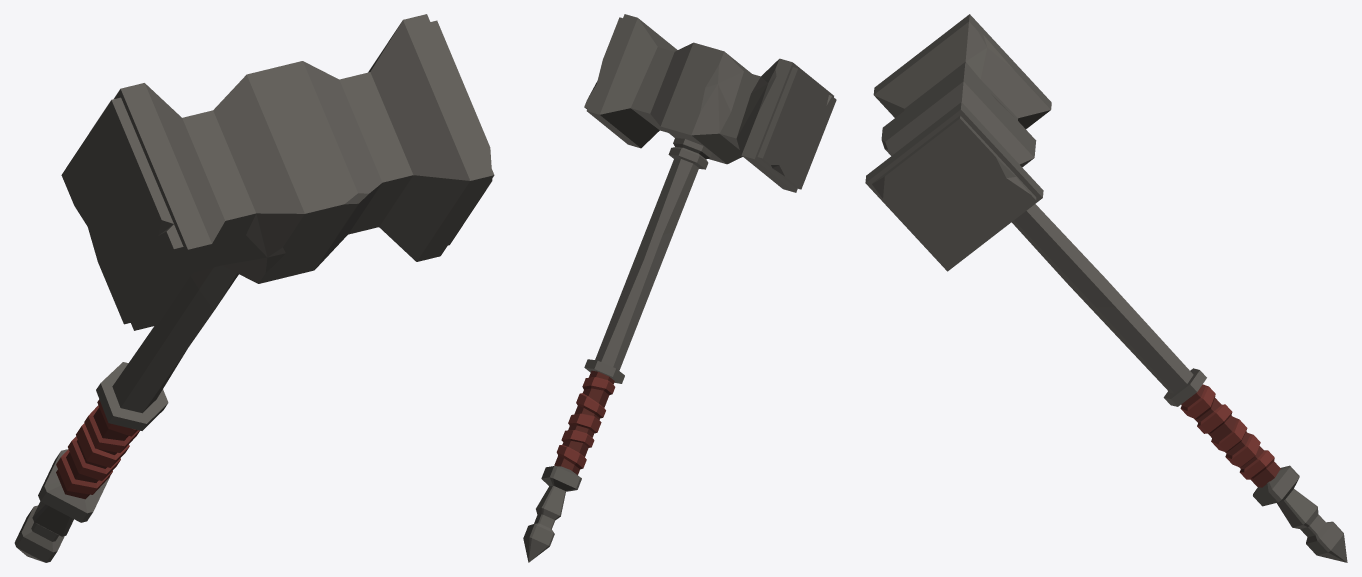
The model's file is fk-hammer-05.glb.
3 renders of one model, left to right at view 1: azimuth 30°, elevation 25°; view 2: azimuth 150°, elevation 25°; view 3: azimuth 270°, elevation 25°, orthographic. The views are drawn at different scales.
Parts seen in each view (by area): view 1: fk-hammer-05; view 2: fk-hammer-05; view 3: fk-hammer-05.
Boxes of the visible parts, bbox=[...] form: fk-hammer-05: bbox=[14, 14, 494, 562]; fk-hammer-05: bbox=[523, 14, 836, 562]; fk-hammer-05: bbox=[865, 14, 1347, 562].
Bounding box in the file's own units: 0.4852 × 1.02 × 0.9088.
1 material, 1 textured.
